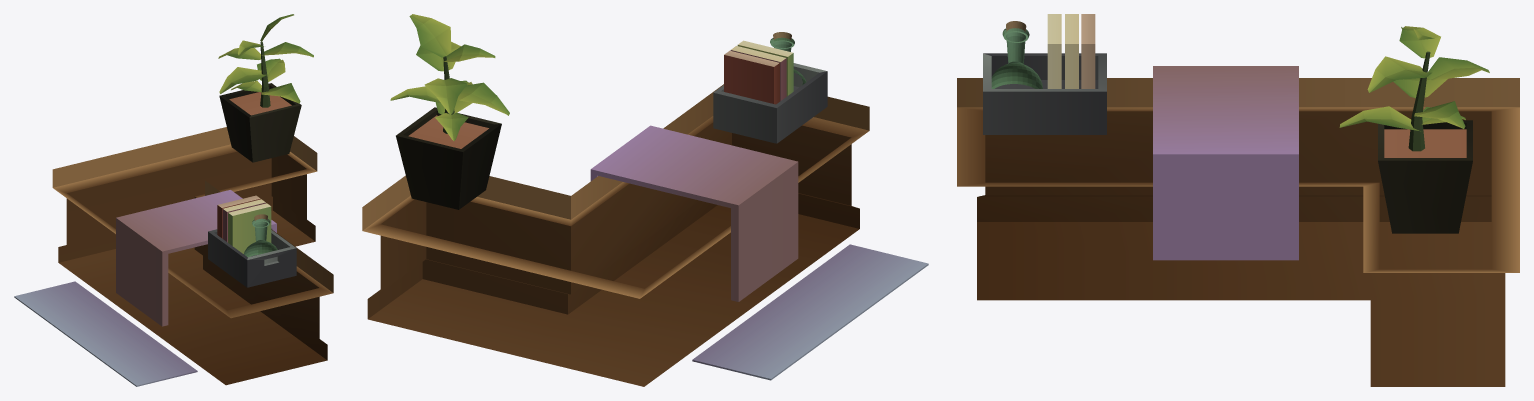
File: kasir.glb
3 renders of one model, left to right at view 1: azimuth 30°, elevation 25°; view 2: azimuth 150°, elevation 25°; view 3: azimuth 270°, elevation 25°, orthographic. The views are drawn at different scales.
Visible parts, largest first — view 1: kasir; view 2: kasir; view 3: kasir.
Boxes of the visible parts, x1,y1,x2,y2 form: kasir: [14, 14, 333, 386]; kasir: [362, 14, 928, 386]; kasir: [957, 14, 1519, 386].
Size of the model in its own units: 1.41 by 1.03 by 1.52.
Materials: 1 (1 with a texture image).
